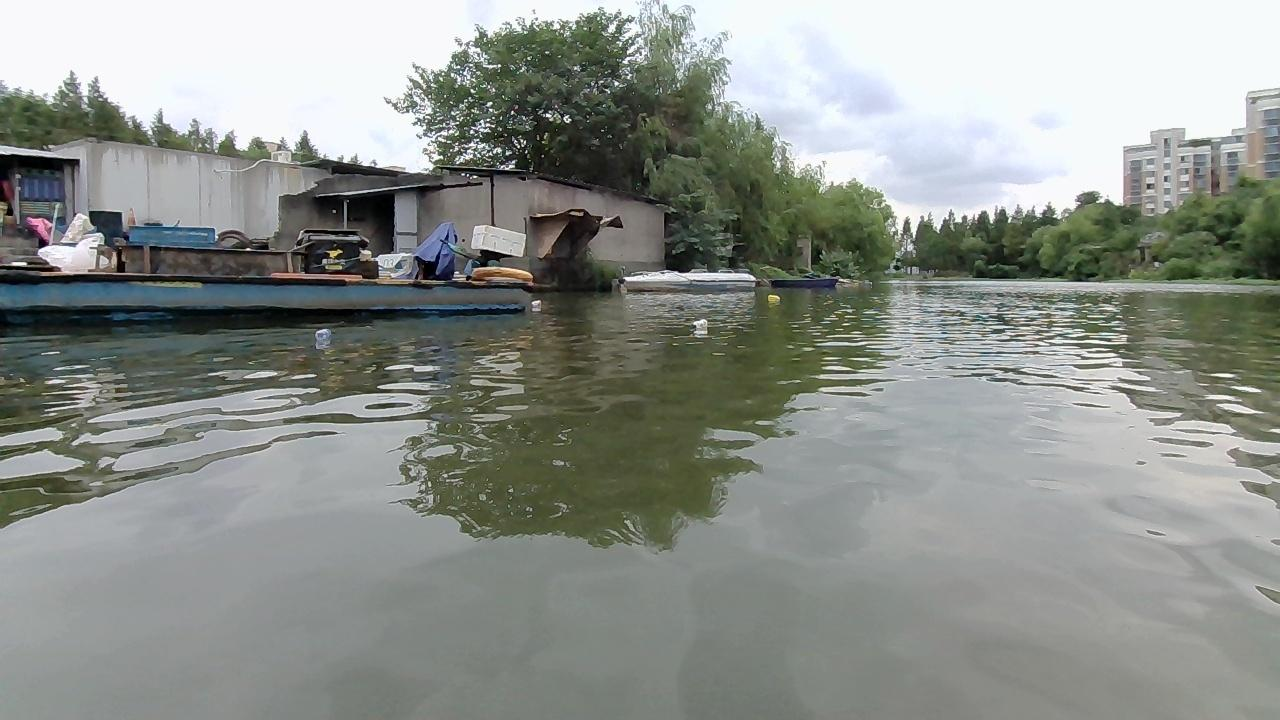bottle: (685, 314, 707, 330), (312, 324, 329, 341), (763, 292, 780, 304), (528, 296, 539, 312)
